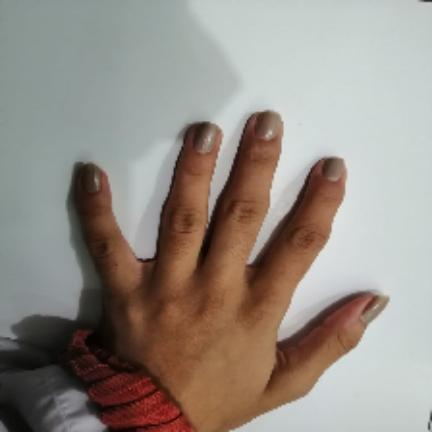Nail: (359, 294, 390, 326), (193, 122, 219, 153), (255, 110, 281, 141), (81, 163, 102, 195), (323, 155, 346, 182)
